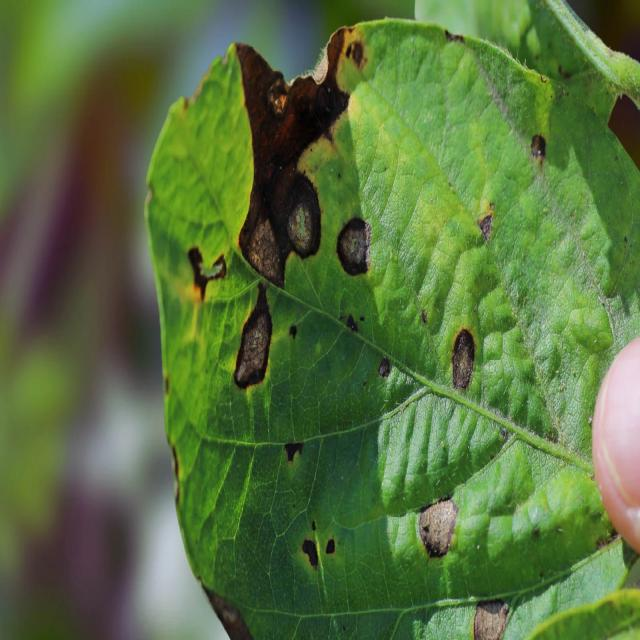leaf_spot: (145, 0, 640, 639)
